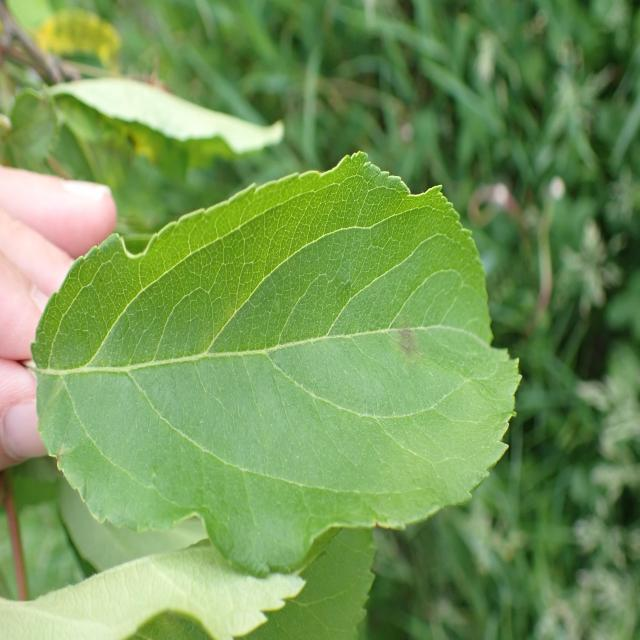scab: (41, 229, 484, 481)
